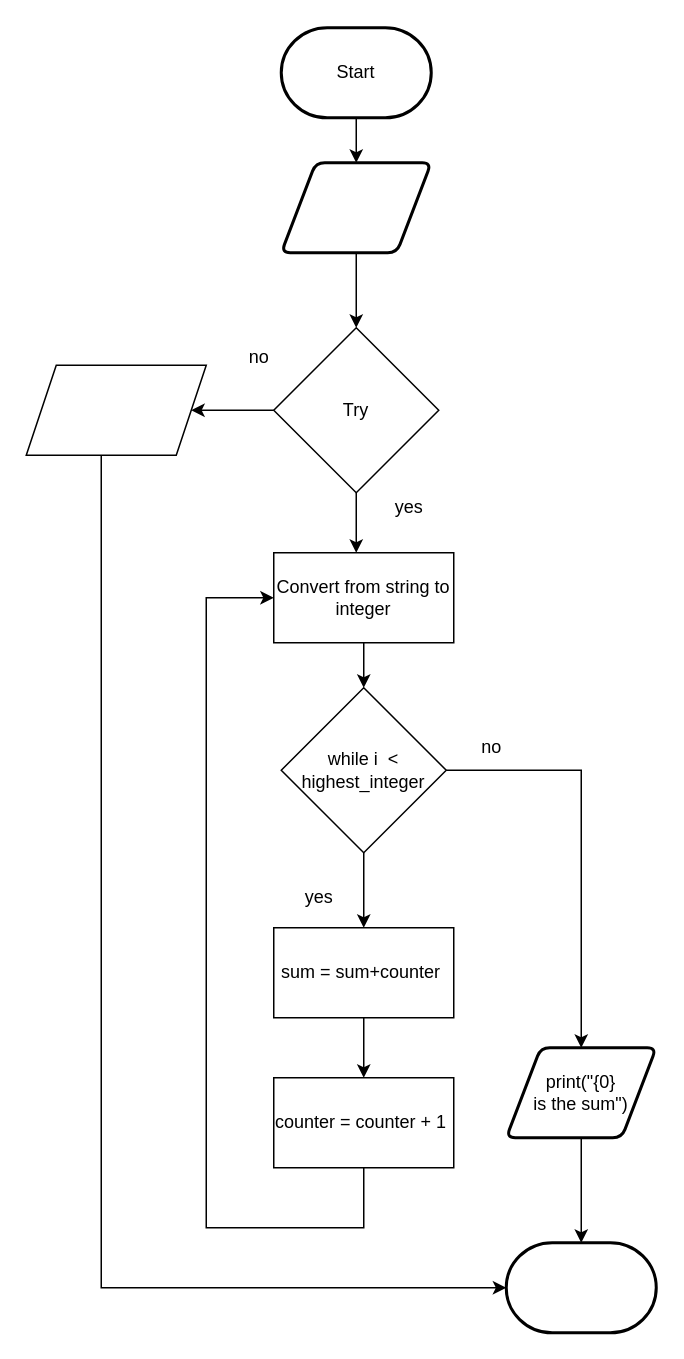
This 684x1359 diagram has some shape labels left out. Each missing label, with the centre of its shape:
Get number: the point at 355,207
it is not: the point at 115,409
Stop: the point at 580,1287
